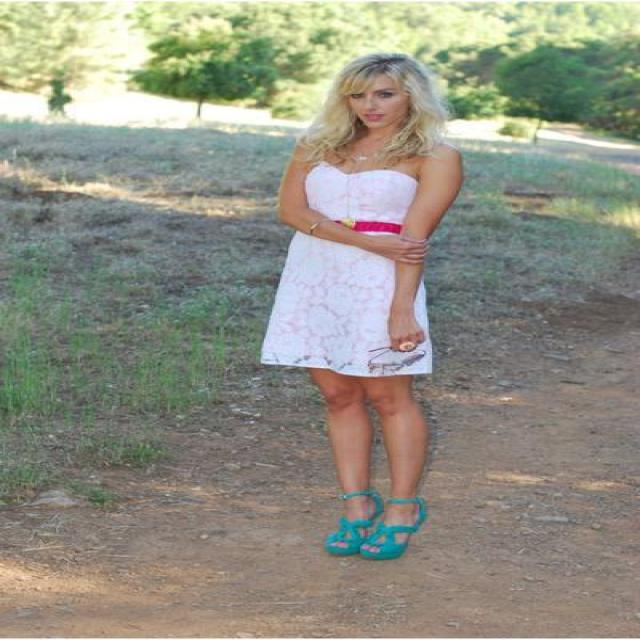dress: (261, 167, 430, 376)
shoe: (326, 483, 434, 559)
